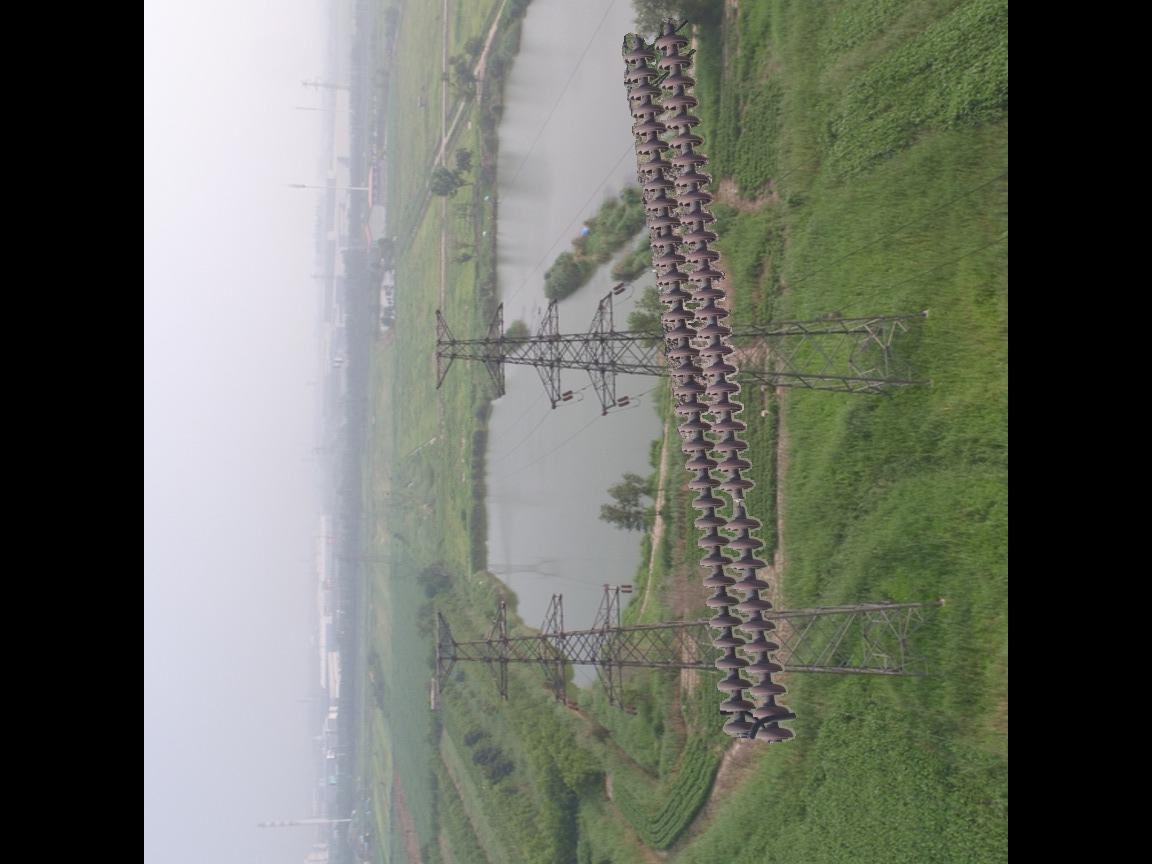insulator: (615, 27, 800, 749)
insulator_stringdrop: (718, 477, 764, 535)
